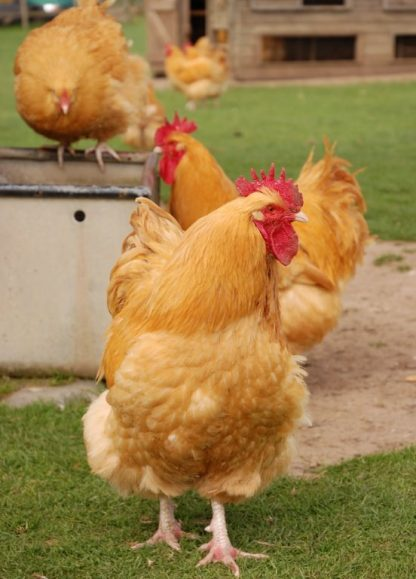buff: (118, 175, 308, 504), (139, 122, 206, 167)
